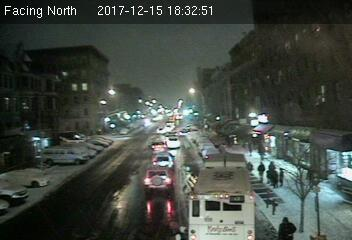bus: (188, 154, 260, 238)
car: (143, 167, 173, 189), (151, 151, 176, 168), (149, 140, 168, 153)
pedestrian: (258, 162, 264, 185)
